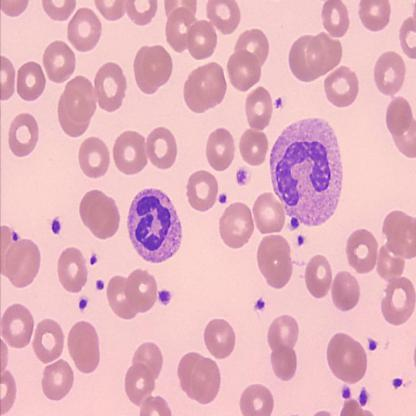Band Neutrophil: (268, 114, 346, 230), (126, 185, 185, 265)
